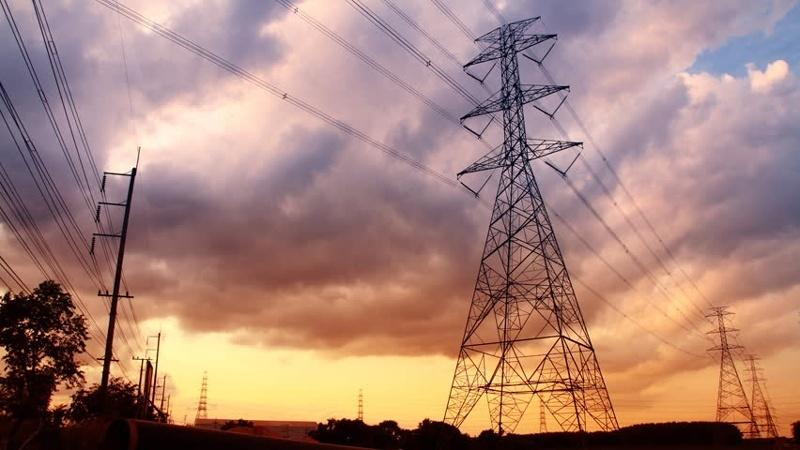power_tower: (448, 16, 598, 425), (685, 297, 751, 418)
